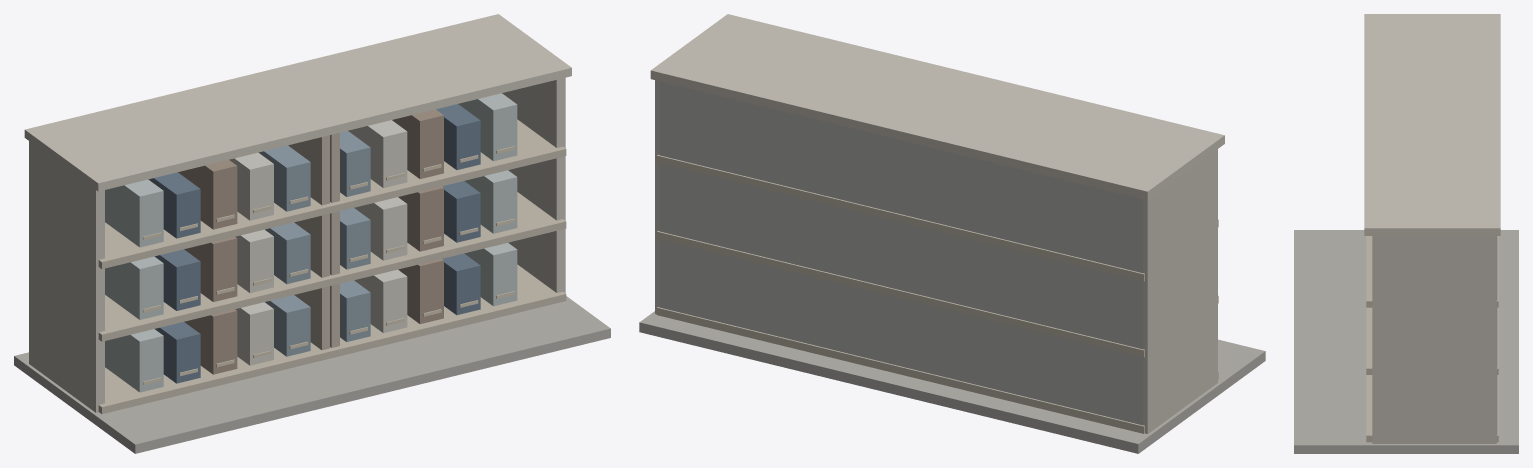
The model's file is library.glb.
3 views of the same model, side by side, from view 1: azimuth 30°, elevation 25°; view 2: azimuth 150°, elevation 25°; view 3: azimuth 270°, elevation 25° (orthographic). The views are drawn at different scales.
Visible parts, largest first — view 1: library; view 2: library; view 3: library.
Boxes of the visible parts, x1,y1,x2,y2 form: library: (14, 14, 610, 453); library: (639, 14, 1265, 453); library: (1294, 14, 1518, 453).
Bounding box in the file's own units: 12.7 × 6.19 × 5.6.
